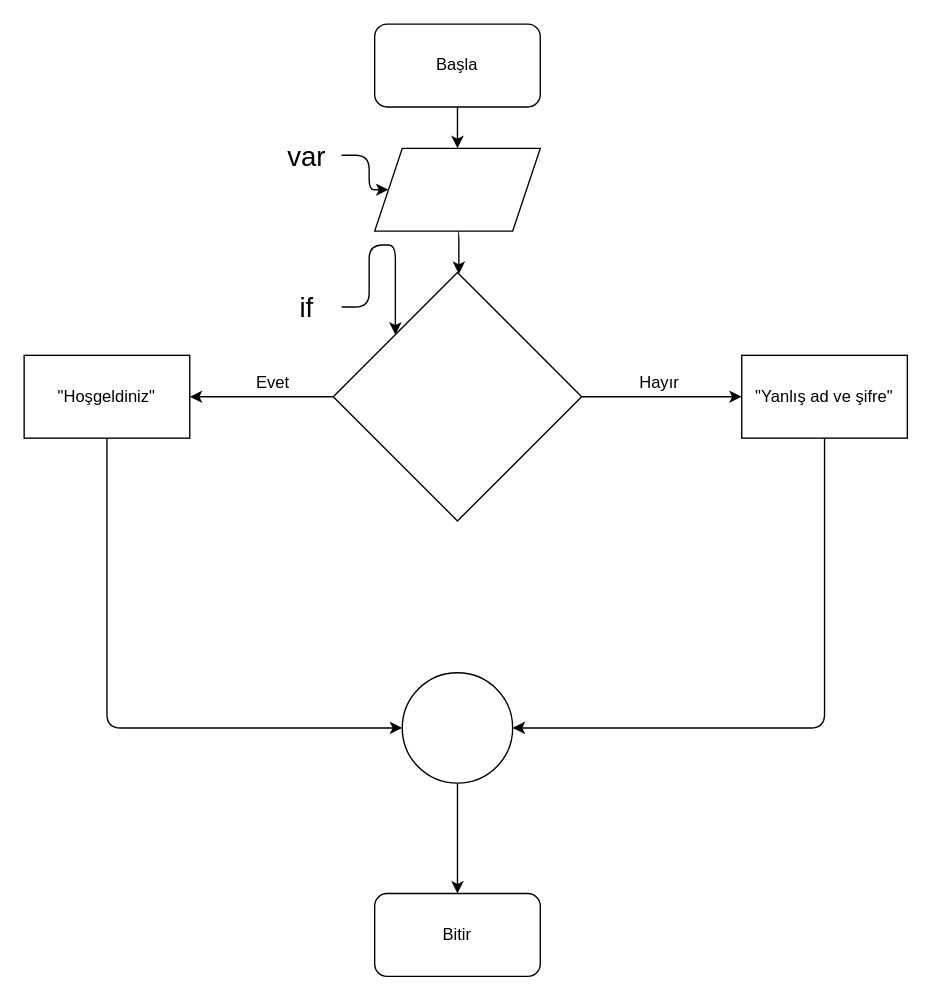
The diagram is 932 pixels wide and 1001 high, and some of its shapes have lost their labels. Each missing label, with the box of its shape:
ad = "tex" şifre = "tex2": (373, 147, 540, 231)
ad == "Yasin" şifre == "yasin2132": (332, 271, 582, 521)
